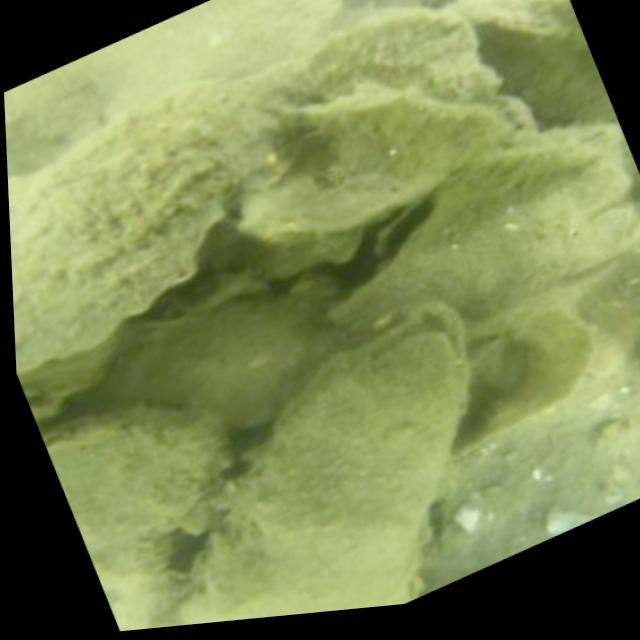Oyster-Closed: (198, 301, 469, 622), (244, 83, 536, 236)
Oyster-Indeterminate: (8, 75, 323, 383), (333, 124, 636, 330), (40, 402, 225, 608), (427, 422, 640, 591), (63, 0, 348, 121), (272, 3, 537, 130), (106, 293, 338, 428)
